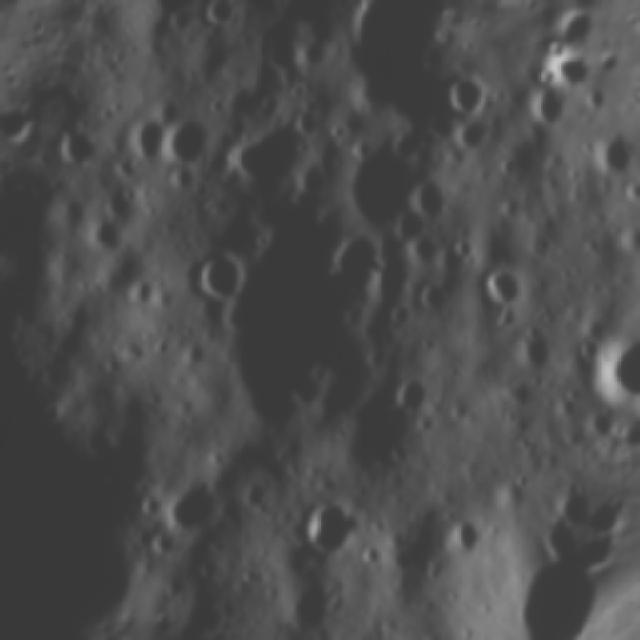crater: (322, 129, 441, 245), (214, 96, 317, 204), (180, 232, 260, 314), (290, 484, 367, 564), (581, 307, 640, 409), (153, 466, 227, 542), (160, 106, 231, 179), (503, 315, 571, 382), (432, 57, 499, 125), (542, 470, 602, 536), (514, 74, 572, 137), (404, 163, 464, 222), (581, 120, 640, 179), (383, 364, 448, 416), (46, 116, 106, 172), (118, 109, 174, 166), (474, 255, 532, 310), (435, 505, 487, 561), (84, 210, 134, 261), (537, 59, 595, 93), (194, 0, 246, 37), (356, 533, 390, 569), (79, 2, 104, 43), (68, 43, 90, 77), (627, 90, 640, 114)
